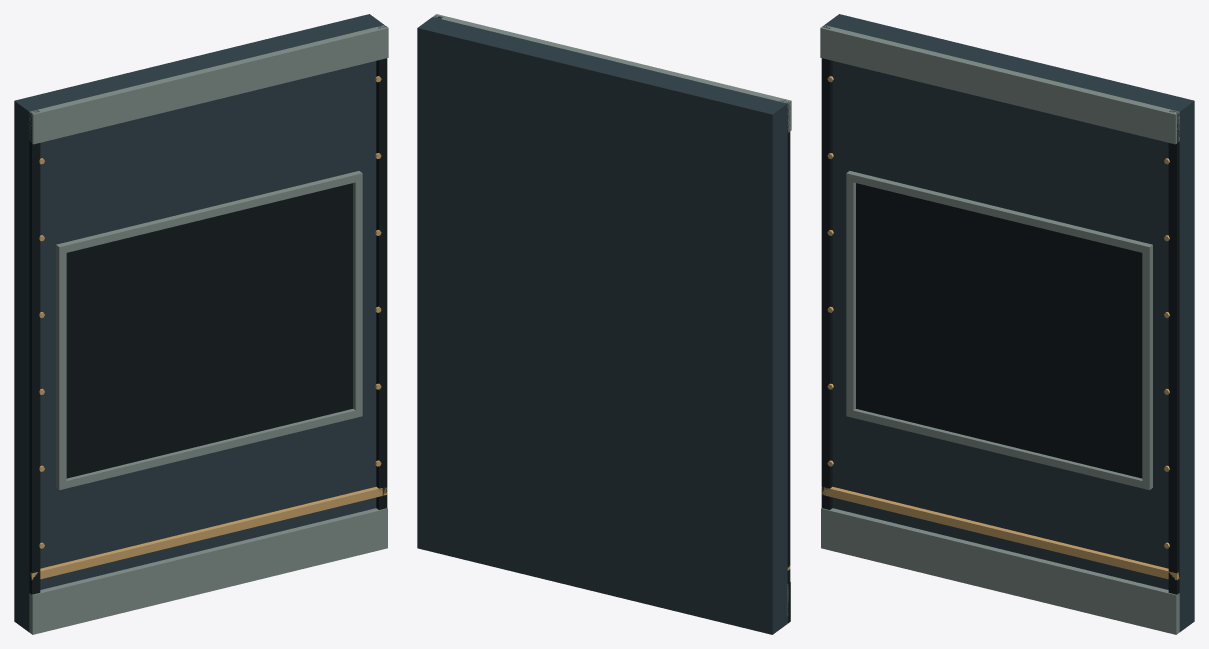
The model's file is wall-bay-4p2.glb.
3 renders of one model, left to right at view 1: azimuth 30°, elevation 25°; view 2: azimuth 150°, elevation 25°; view 3: azimuth 330°, elevation 25°, orthographic.
Visible parts, largest first — view 1: wall-bay-4p2; view 2: wall-bay-4p2; view 3: wall-bay-4p2.
Boxes of the visible parts, box(x1,y1,x2,y2) form: wall-bay-4p2: box(14, 14, 388, 634); wall-bay-4p2: box(417, 14, 791, 634); wall-bay-4p2: box(820, 14, 1194, 634).
Size of the model in its own units: 3 by 4.2 by 0.28.
